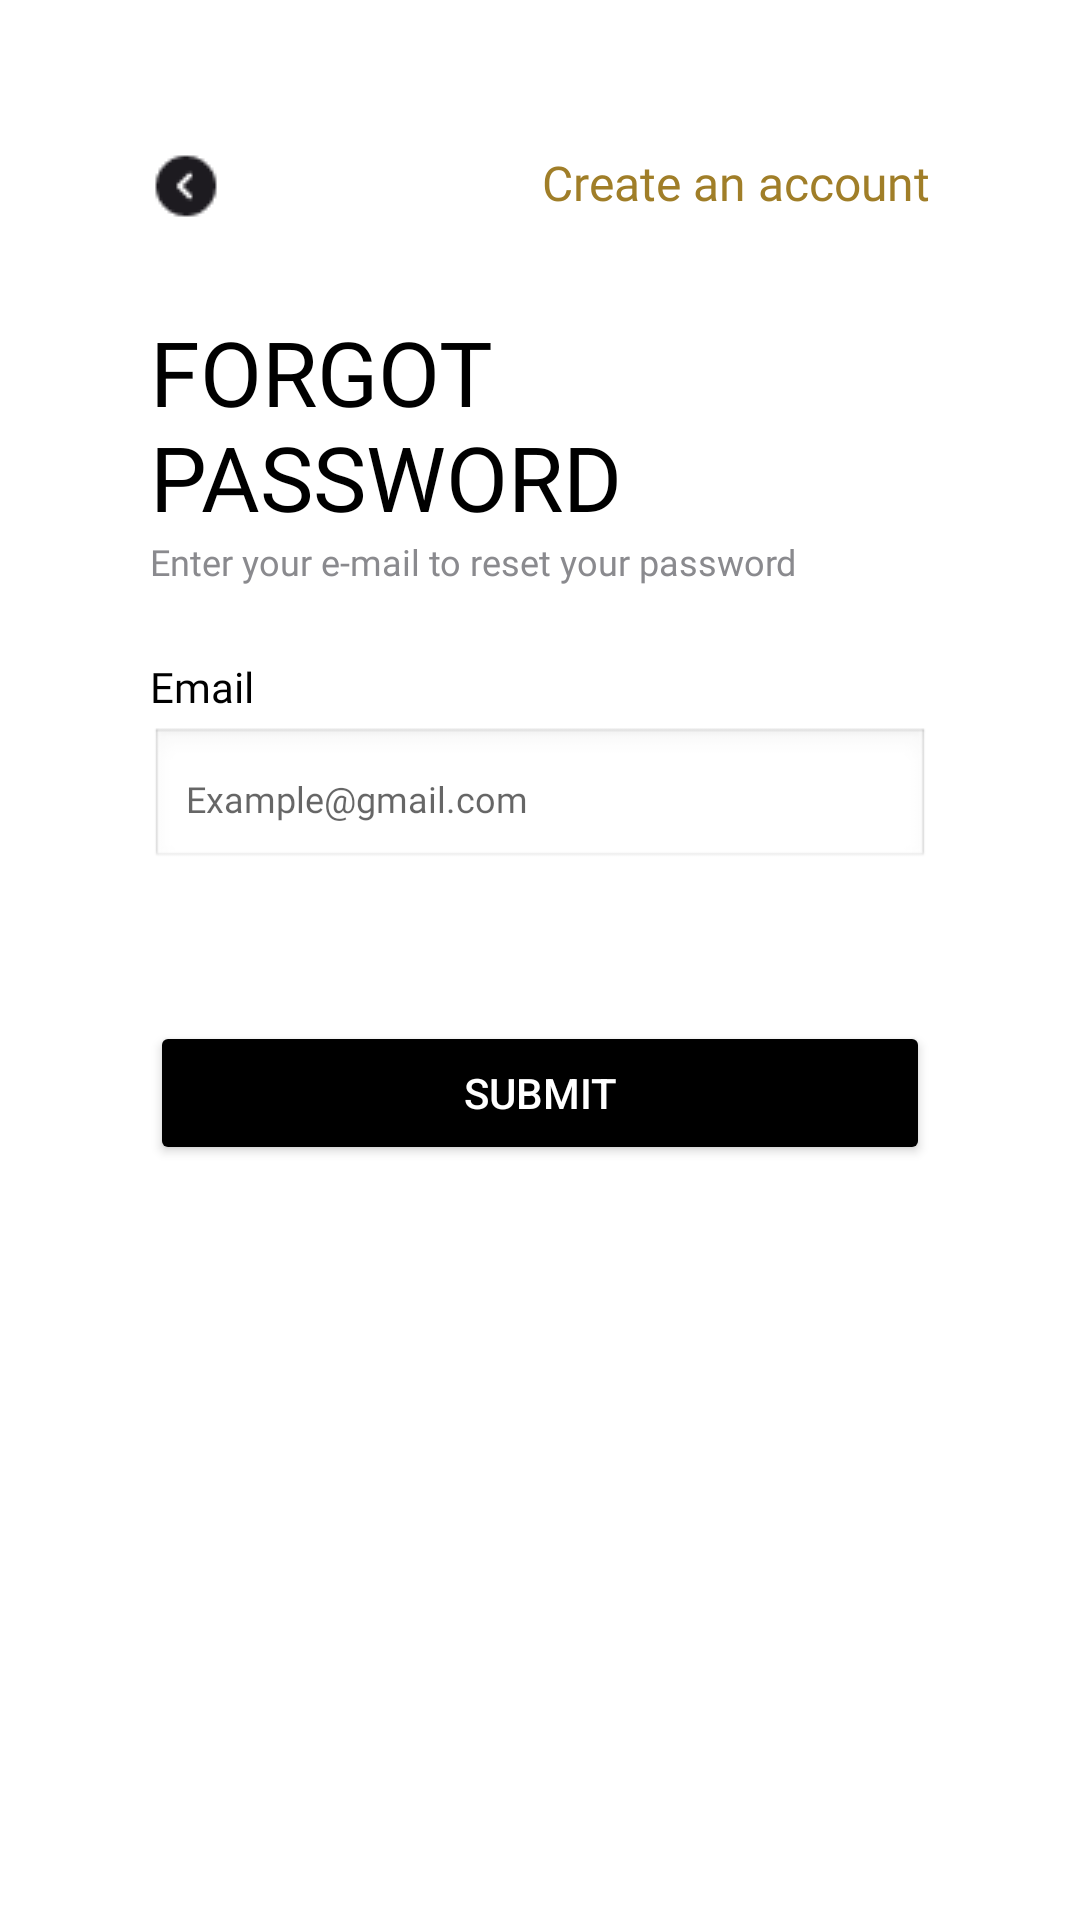

Named icons in this screenshot (1080w x 1920h) and their bounding boxes, bbox=(x1, y1, x2, y2):
Back: bbox=(155, 155, 217, 217)
